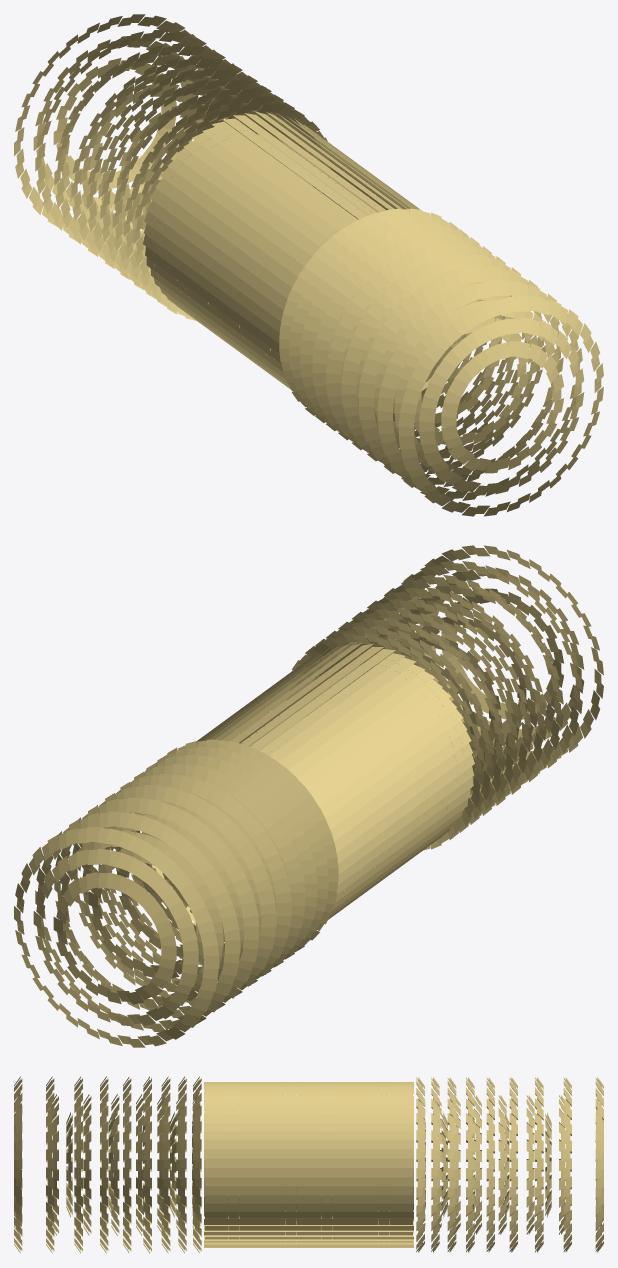
File: OuterPixels_barrel.glb
The picture shows the model from 3 angles, top to bottom: view 1: azimuth 30°, elevation 25°; view 2: azimuth 150°, elevation 25°; view 3: azimuth 270°, elevation 25°; orthographic projection. The views are drawn at different scales.
Parts seen in each view (by area): view 1: OuterPixels__Barrel_sensitives_l5.002, OuterPixels__Barrel_sensitives_l3.002, OuterPixels__Barrel_sensitives_l1.002; view 2: OuterPixels__Barrel_sensitives_l5.002, OuterPixels__Barrel_sensitives_l3.002, OuterPixels__Barrel_sensitives_l1.002; view 3: OuterPixels__Barrel_sensitives_l5.002, OuterPixels__Barrel_sensitives_l3.002, OuterPixels__Barrel_sensitives_l1.002.
Part boxes in pixels (x1,y1,x2,y2): OuterPixels__Barrel_sensitives_l5.002: [14, 14, 603, 516]; OuterPixels__Barrel_sensitives_l3.002: [33, 35, 584, 495]; OuterPixels__Barrel_sensitives_l1.002: [53, 58, 563, 473]; OuterPixels__Barrel_sensitives_l5.002: [14, 545, 603, 1047]; OuterPixels__Barrel_sensitives_l3.002: [33, 566, 584, 1026]; OuterPixels__Barrel_sensitives_l1.002: [53, 588, 563, 1004]; OuterPixels__Barrel_sensitives_l5.002: [14, 1076, 603, 1253]; OuterPixels__Barrel_sensitives_l3.002: [14, 1094, 603, 1235]; OuterPixels__Barrel_sensitives_l1.002: [14, 1112, 602, 1217].
Bounding box in the file's own units: 0.6331 × 0.6331 × 2.1.
